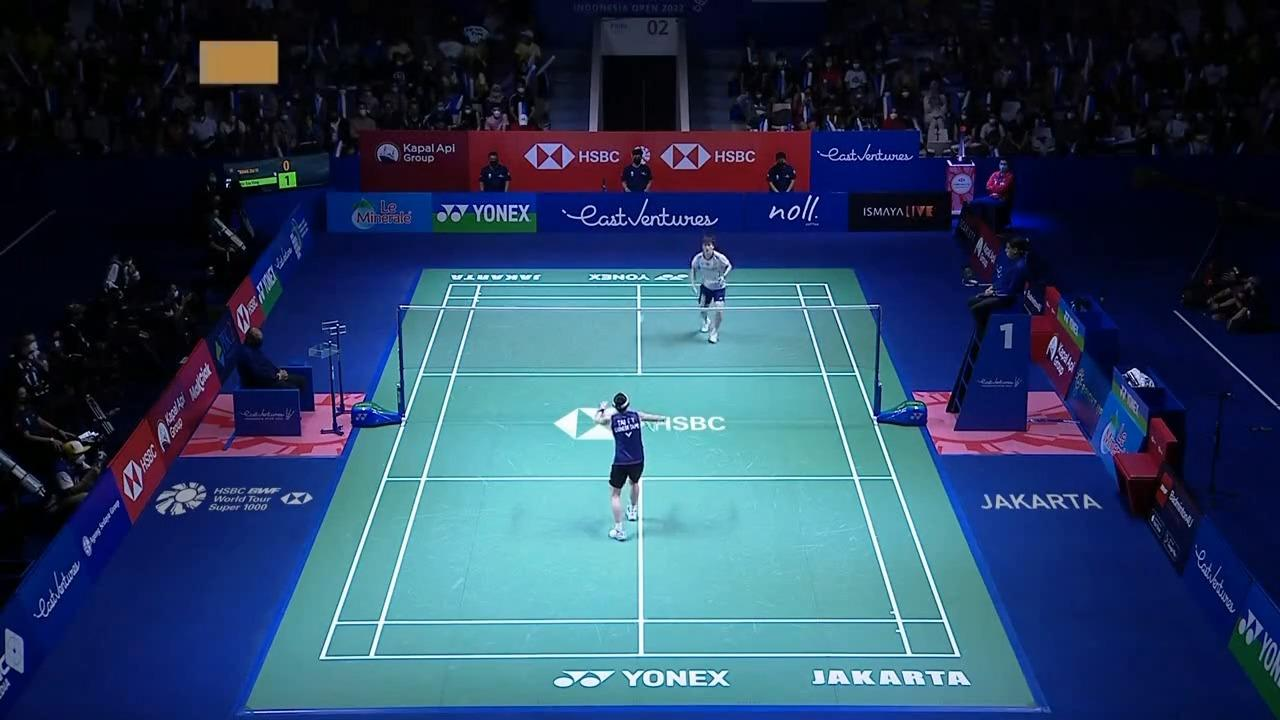shuttle: (636, 315, 644, 321)
